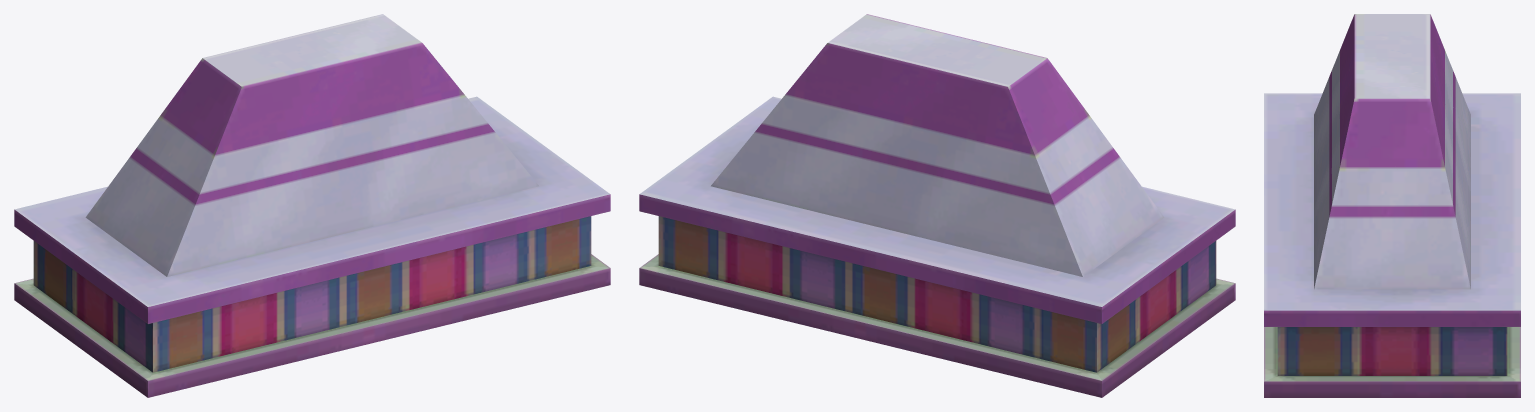
File: furni_0200619_01.FBX
3 views of the same model, side by side, from view 1: azimuth 30°, elevation 25°; view 2: azimuth 150°, elevation 25°; view 3: azimuth 270°, elevation 25° (orthographic). The views are drawn at different scales.
Parts seen in each view (by area): view 1: furni_0200619_01; view 2: furni_0200619_01; view 3: furni_0200619_01.
Part boxes in pixels (bbox=[...]): furni_0200619_01: bbox=[14, 14, 610, 397]; furni_0200619_01: bbox=[639, 14, 1235, 397]; furni_0200619_01: bbox=[1264, 14, 1520, 397].
Size of the model in its own units: 160 by 80.03 by 80.
1 material, 1 textured.
